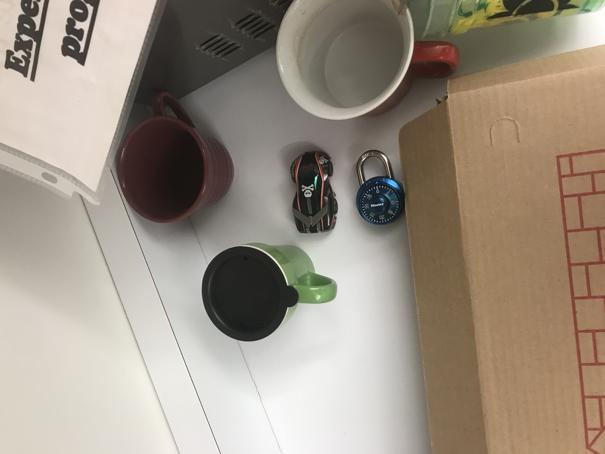Skull: (290, 150, 339, 234)
